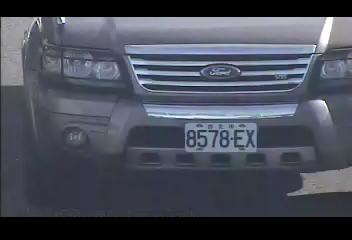plate: (183, 122, 258, 153)
